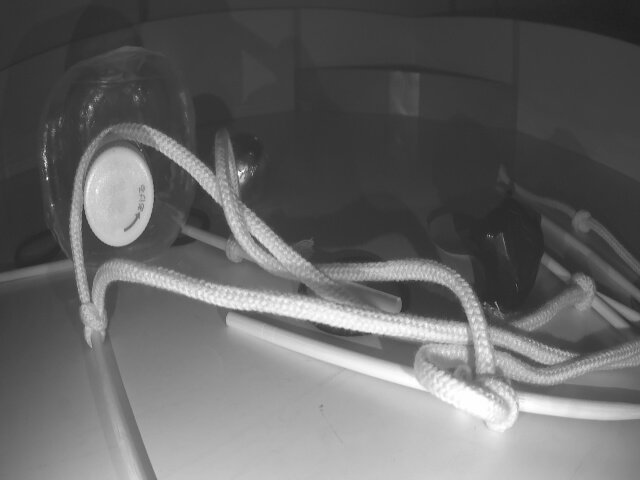Dead: (474, 196, 543, 313)
Live: (219, 128, 271, 201)
Point: (296, 71, 518, 127)
